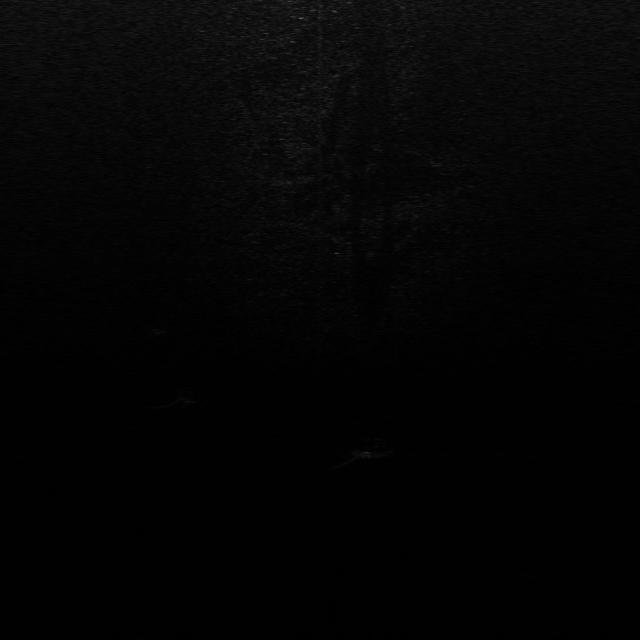ball: (174, 388, 203, 407)
circle cage: (148, 317, 172, 333)
tyre: (348, 437, 399, 459)
